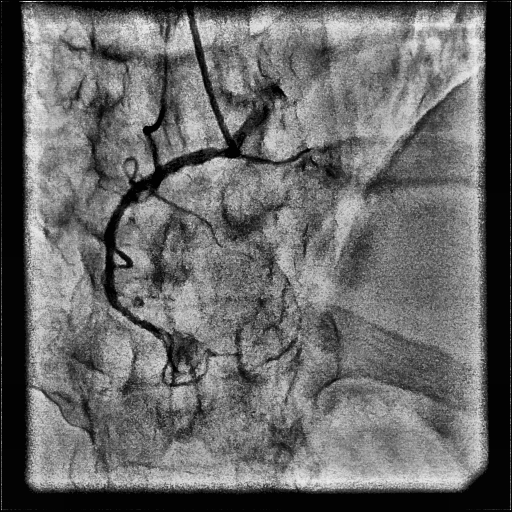rca: (101, 148, 230, 388)
